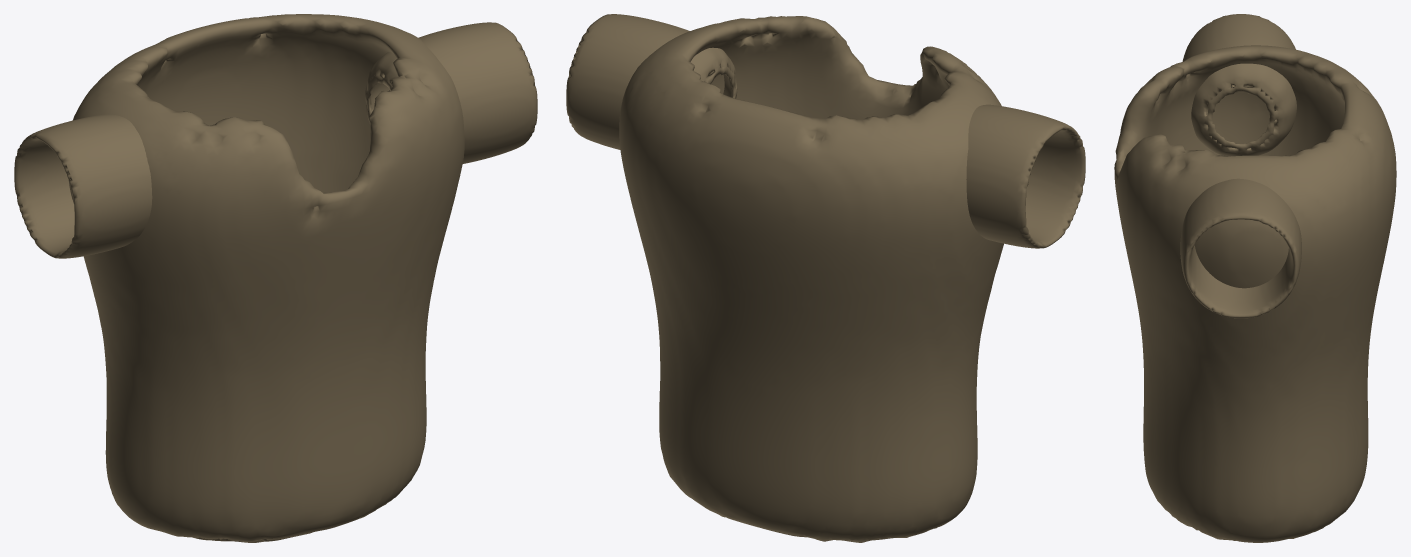
Rendered from CharacterCloths.fbx.
The picture shows the model from 3 angles, left to right: view 1: azimuth 30°, elevation 25°; view 2: azimuth 150°, elevation 25°; view 3: azimuth 270°, elevation 25°; orthographic projection. The views are drawn at different scales.
Parts seen in each view (by area): view 1: Cylinder.044, Cylinder.045, Cylinder.050; view 2: Cylinder.044, Cylinder.045, Cylinder.050; view 3: Cylinder.044, Cylinder.050, Cylinder.045.
Part boxes in pixels (<box>): Cylinder.044: <box>68,14,464,542</box>; Cylinder.045: <box>14,114,152,258</box>; Cylinder.050: <box>365,22,537,163</box>; Cylinder.044: <box>619,16,1003,542</box>; Cylinder.045: <box>966,104,1085,248</box>; Cylinder.050: <box>566,14,737,149</box>; Cylinder.044: <box>1114,45,1396,542</box>; Cylinder.050: <box>1180,178,1301,318</box>; Cylinder.045: <box>1182,14,1296,156</box>.
Bounding box in the file's own units: 242 × 142 × 218.
